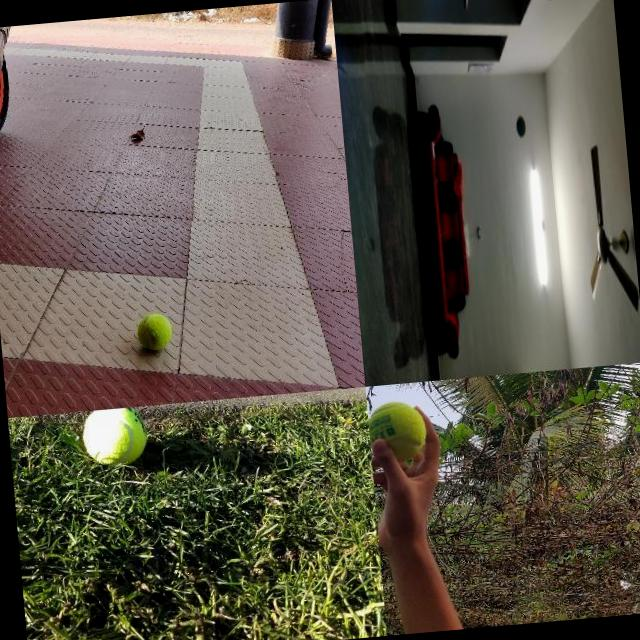Tennis Ball: (80, 406, 151, 470), (368, 398, 430, 466), (136, 311, 173, 350), (516, 114, 527, 137)
